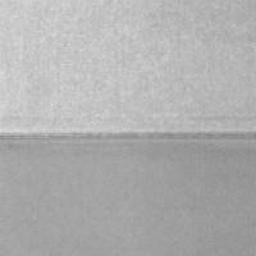Welding line: (0, 129, 256, 142)
